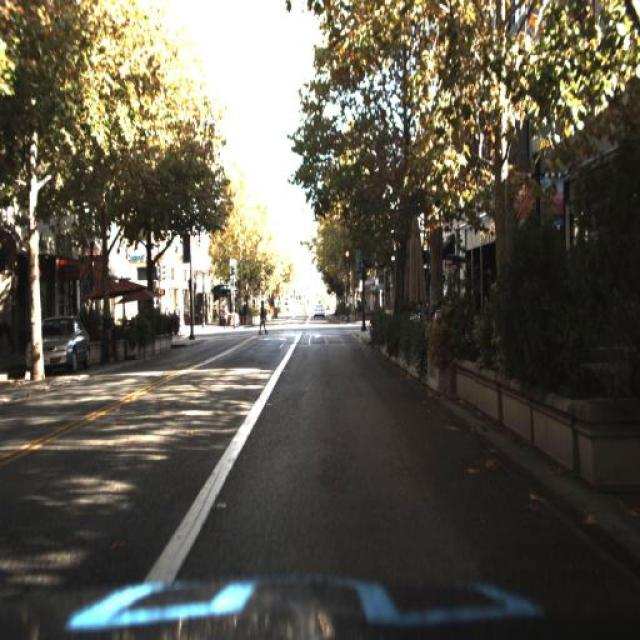car: (26, 307, 84, 378), (33, 318, 88, 378)
trafficLight: (218, 299, 241, 332), (257, 294, 268, 338), (258, 294, 268, 338)
trafficLight-RedLeft: (342, 237, 353, 274), (342, 240, 352, 271)
